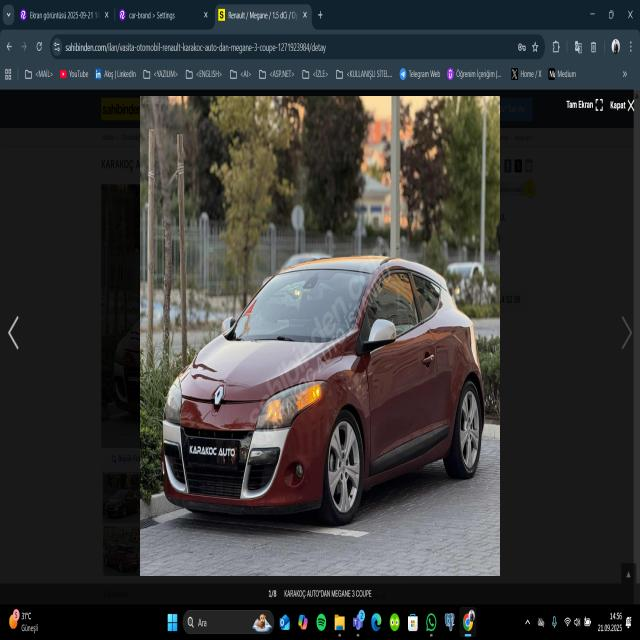renault: (204, 374, 234, 418)
